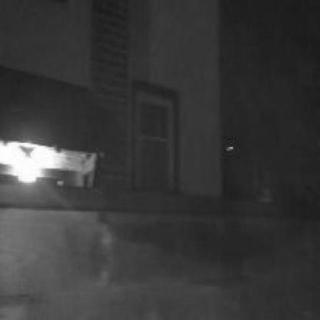other: (0, 136, 66, 194)
